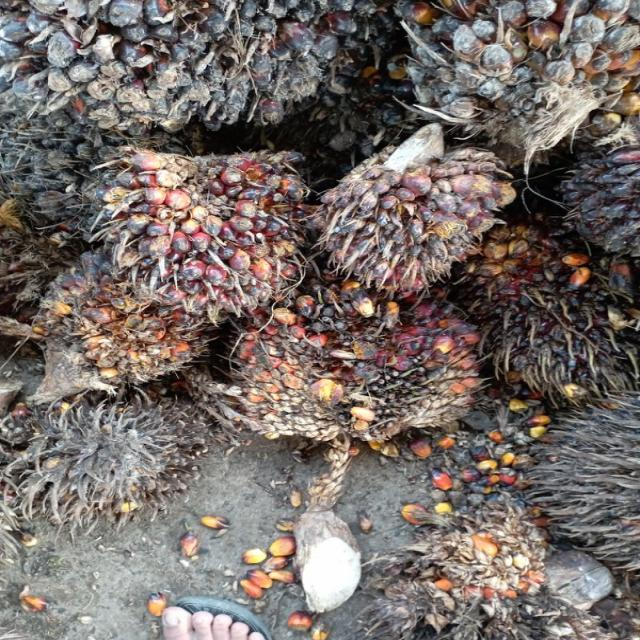fraksi 1: (224, 266, 480, 448), (70, 138, 323, 316), (318, 124, 514, 298)
